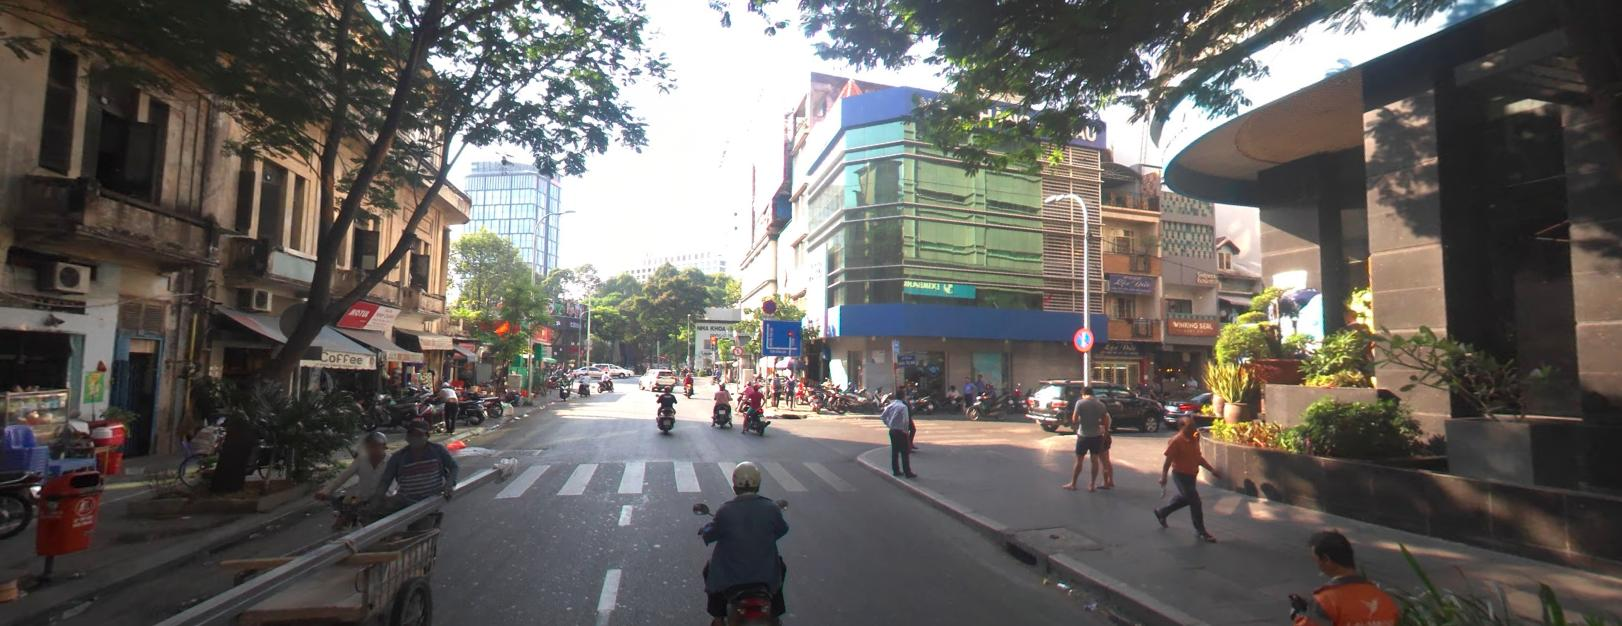Cam dung va do: (1072, 326, 1093, 350), (762, 299, 775, 312)
Cam nguoc chieu: (660, 353, 664, 358)
Cam re: (733, 345, 742, 354)
